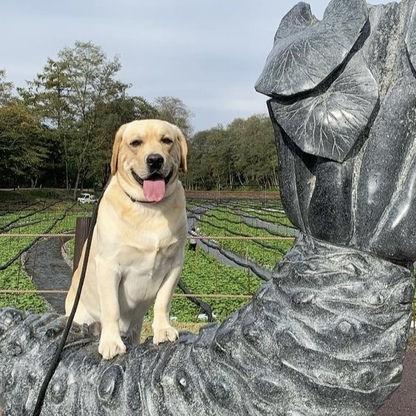labrado: (63, 115, 191, 362)
